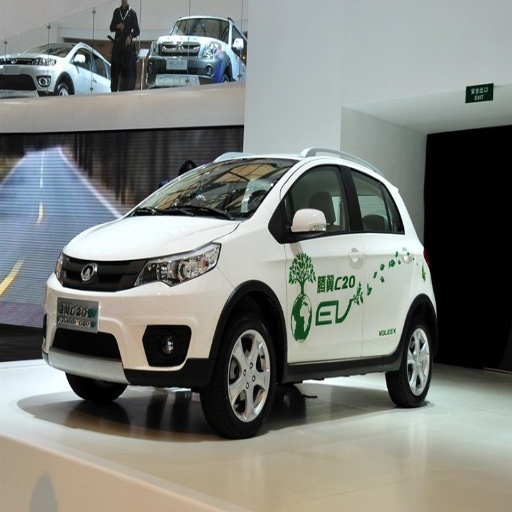front_bumper: (44, 255, 233, 384)
front_glass: (130, 160, 291, 219)
front_left_door: (279, 161, 362, 360)
